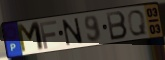9: (84, 14, 102, 43)
B: (105, 10, 129, 42)
F: (39, 19, 59, 50)
M: (16, 20, 46, 55)
N: (61, 17, 85, 48)
Q: (127, 9, 148, 37)
